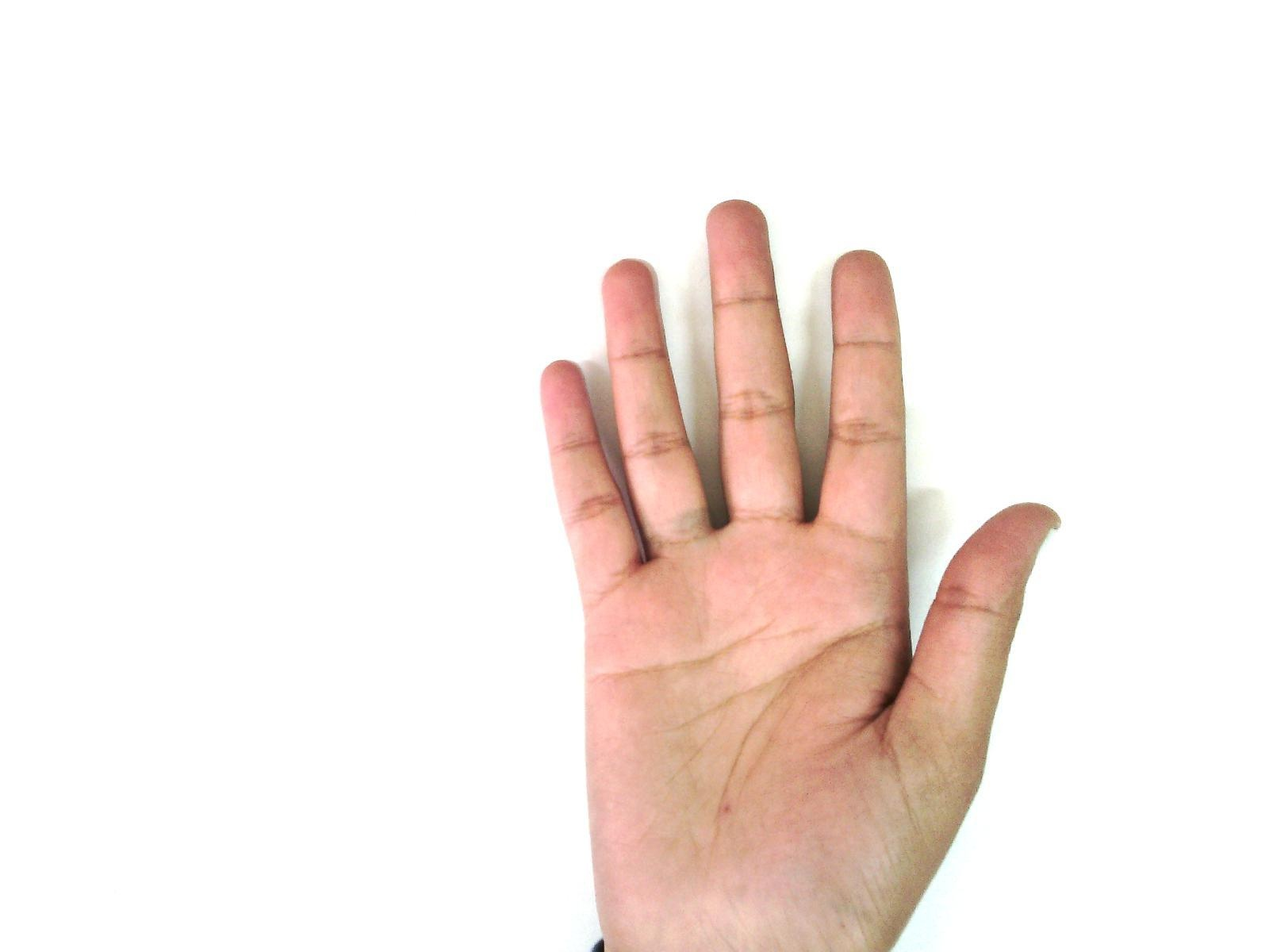open_palm: (536, 198, 1063, 951)
